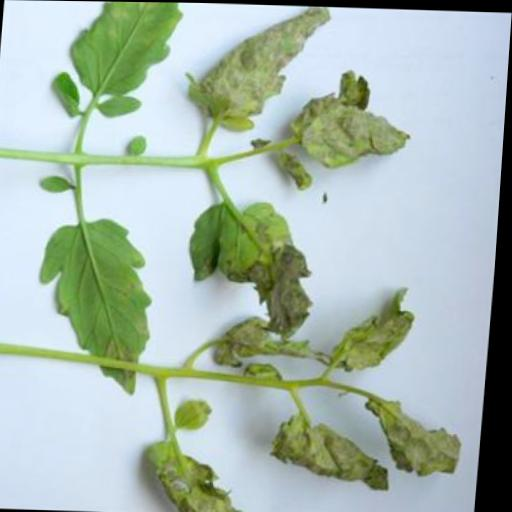Leaf Mold: (34, 215, 165, 396), (183, 4, 335, 136), (185, 197, 324, 336), (65, 1, 186, 97), (291, 93, 418, 171)
